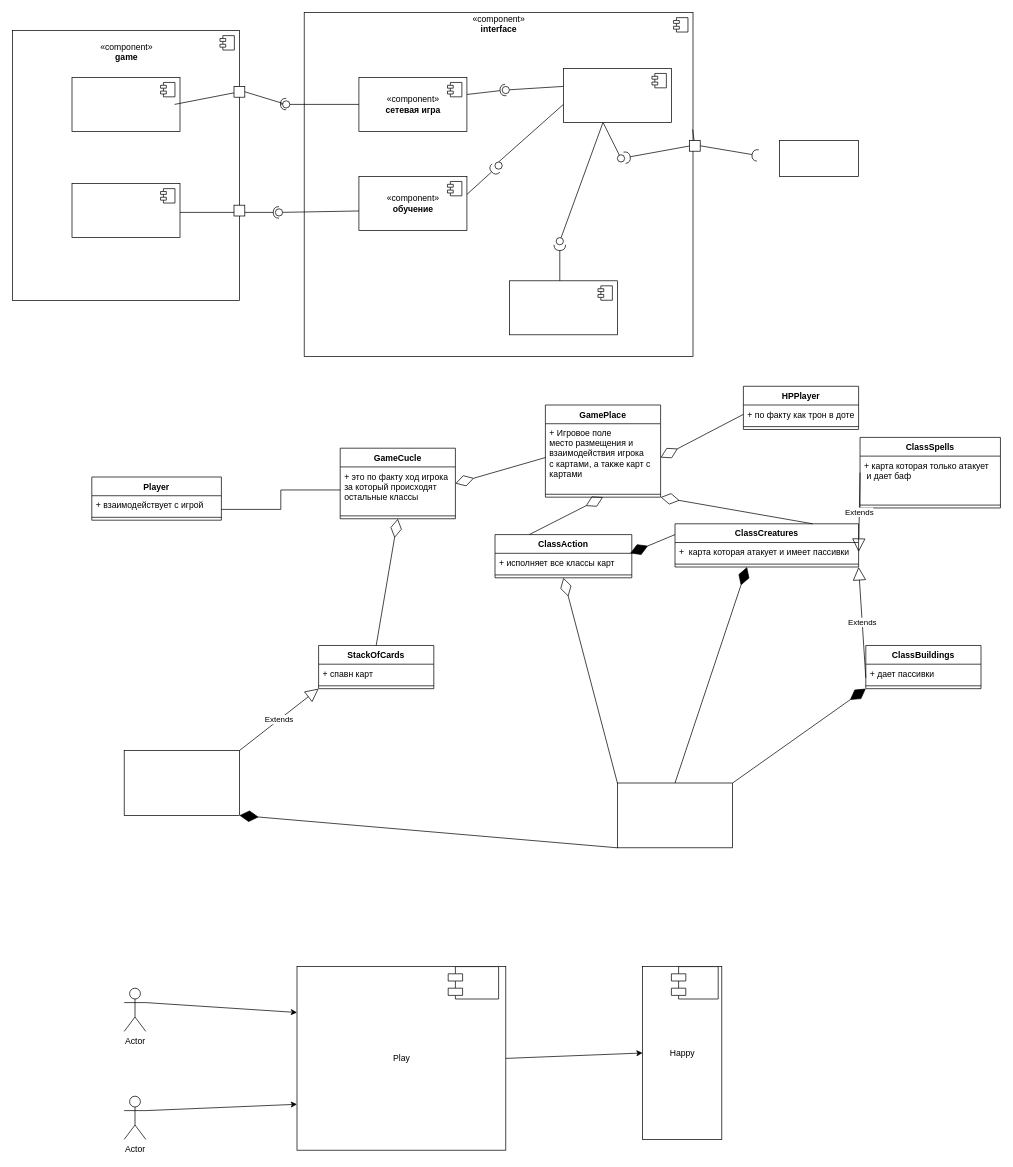
Some shapes in this 1013 by 1167 pixel diagram are drawn without their labels. The centre of each missing label's shape, as x and y in pixels:
"ClassFlup + активная способность карт" belongs at (675,815).
"ClassResert + колода сброса от куда могут браться карты при Flup" belongs at (181,782).
"«component» загрузочный экран" belongs at (617,95).
"«component» игра с ботом" belongs at (125,210).
"«component» игра с противником" belongs at (125,104).
"«component» опции" belongs at (563,307).
"игрок" belongs at (819,158).
